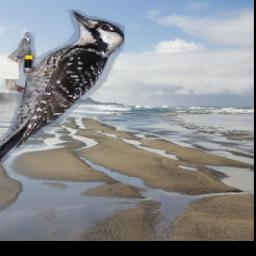Woodpecker: (0, 10, 125, 164)
